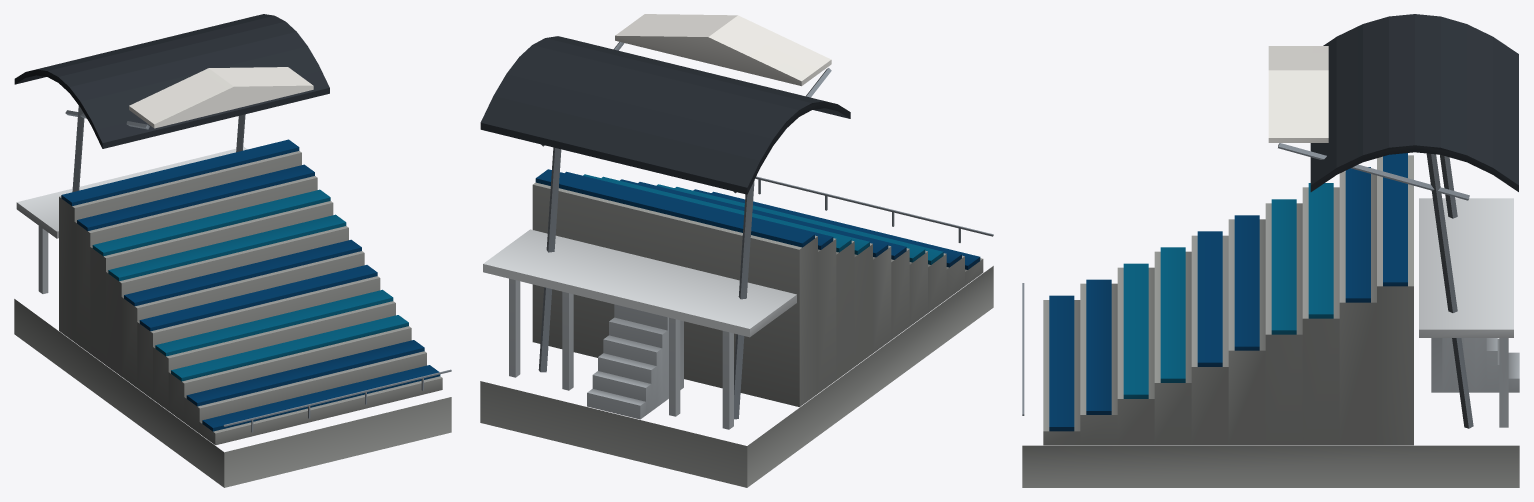
File: grandstand-bay-covered.glb
The picture shows the model from 3 angles, left to right: view 1: azimuth 30°, elevation 25°; view 2: azimuth 150°, elevation 25°; view 3: azimuth 270°, elevation 25°; orthographic projection. The views are drawn at different scales.
Visible parts, largest first — view 1: grandstand-bay-covered; view 2: grandstand-bay-covered; view 3: grandstand-bay-covered.
Part boxes in pixels (bbox=[...]): grandstand-bay-covered: bbox=[14, 14, 451, 487]; grandstand-bay-covered: bbox=[480, 14, 993, 487]; grandstand-bay-covered: bbox=[1022, 14, 1519, 487].
Bounding box in the file's own units: 20 × 25 × 32.
